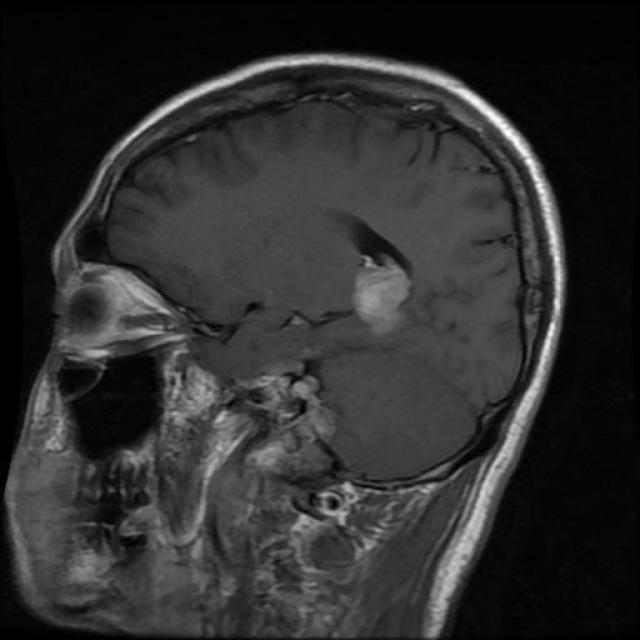meningioma: (354, 251, 414, 336)
